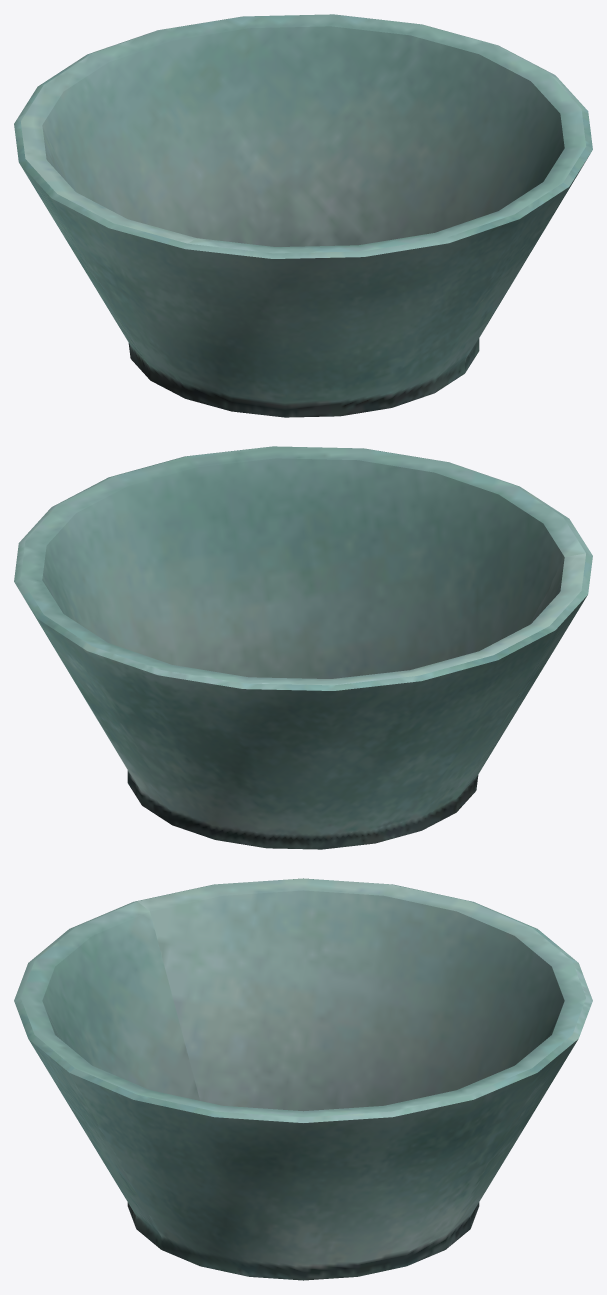
The model's file is dishes_bowl.dae.
3 renders of one model, top to bottom at view 1: azimuth 30°, elevation 25°; view 2: azimuth 150°, elevation 25°; view 3: azimuth 270°, elevation 25°, orthographic.
Parts seen in each view (by area): view 1: dishes_bowl; view 2: dishes_bowl; view 3: dishes_bowl.
Part boxes in pixels (x1,y1,x2,y2): dishes_bowl: (14, 14, 592, 417); dishes_bowl: (14, 446, 592, 849); dishes_bowl: (14, 878, 592, 1280).
Bounding box in the file's own units: 0.2068 × 0.0821 × 0.2068.
